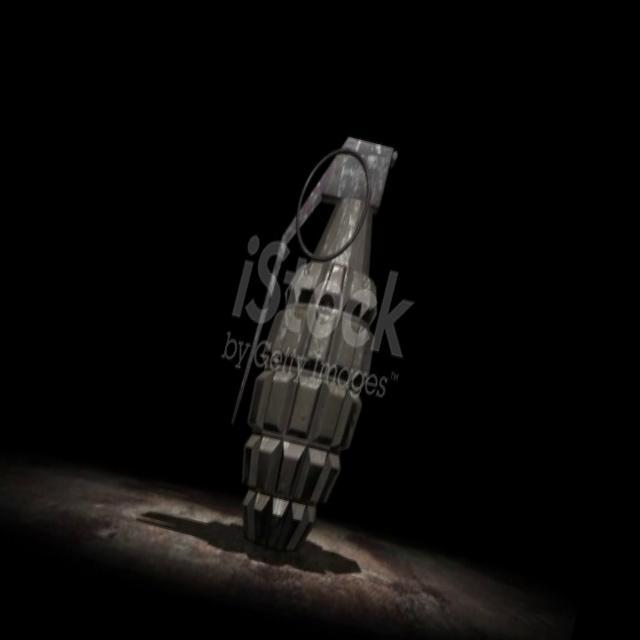grenade: (204, 125, 428, 554)
